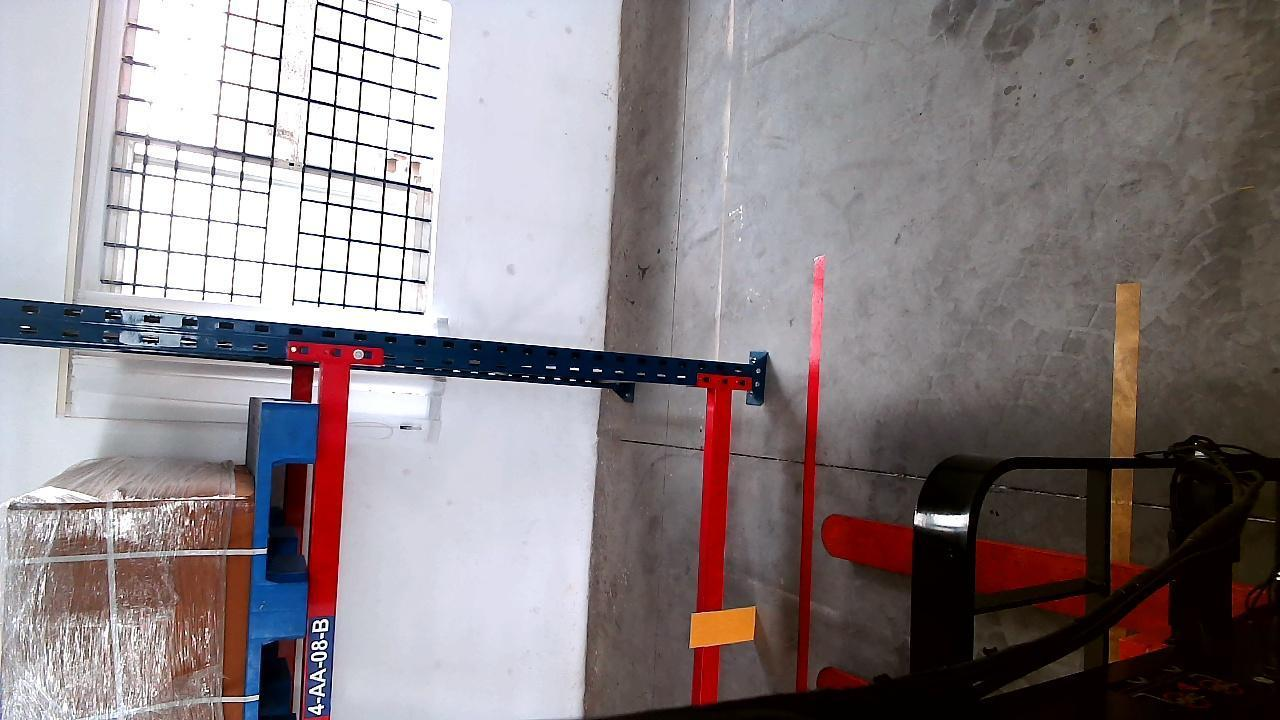h_rack: (304, 361, 350, 719), (699, 388, 733, 704)
orange_strip: (692, 607, 757, 647)
red_line: (796, 250, 825, 707)
small_pallet: (247, 395, 317, 717)
yellow_line: (1109, 282, 1145, 588)
